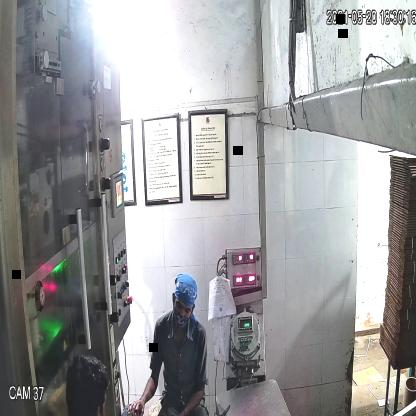no_goggles: (172, 296, 194, 321)
